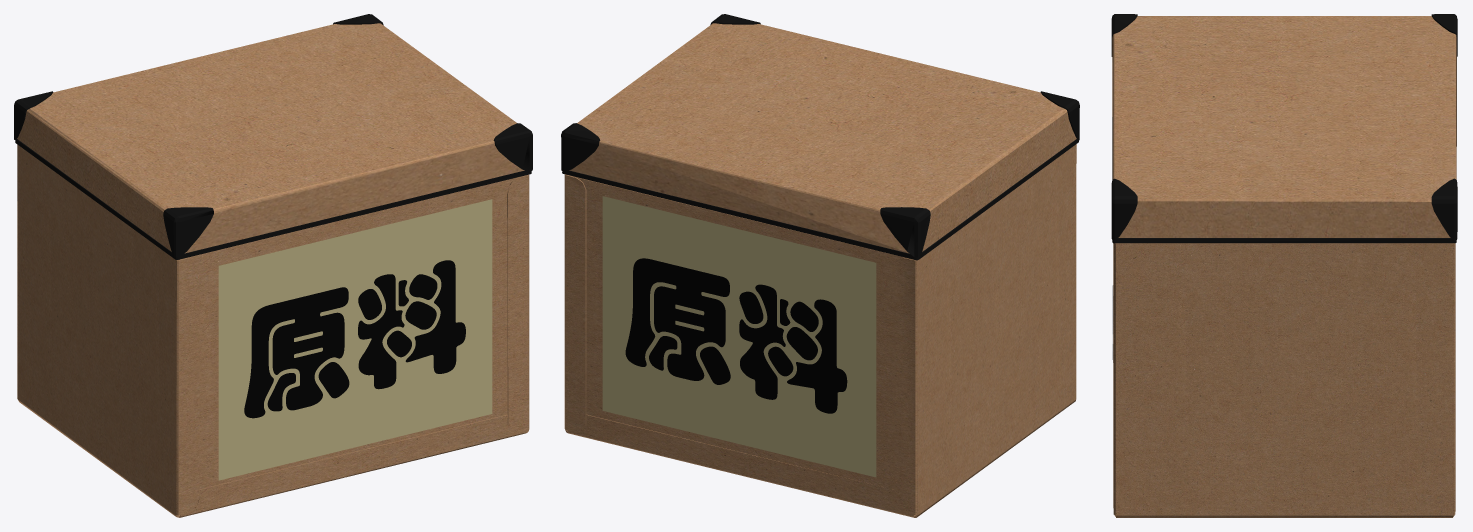
File: 原料纸箱.fbx
3 views of the same model, side by side, from view 1: azimuth 30°, elevation 25°; view 2: azimuth 150°, elevation 25°; view 3: azimuth 270°, elevation 25° (orthographic). The views are drawn at different scales.
Parts seen in each view (by area): view 1: Box, 标签_原料; view 2: Box, 标签_原料.001; view 3: Box.
Part boxes in pixels (left/top/right/bottom): Box: left=14, top=14, right=532, bottom=517; 标签_原料: left=218, top=199, right=492, bottom=480; Box: left=561, top=14, right=1079, bottom=517; 标签_原料.001: left=602, top=196, right=876, bottom=477; Box: left=1111, top=14, right=1457, bottom=517.
Size of the model in its own units: 82.08 by 66.08 by 65.2.
